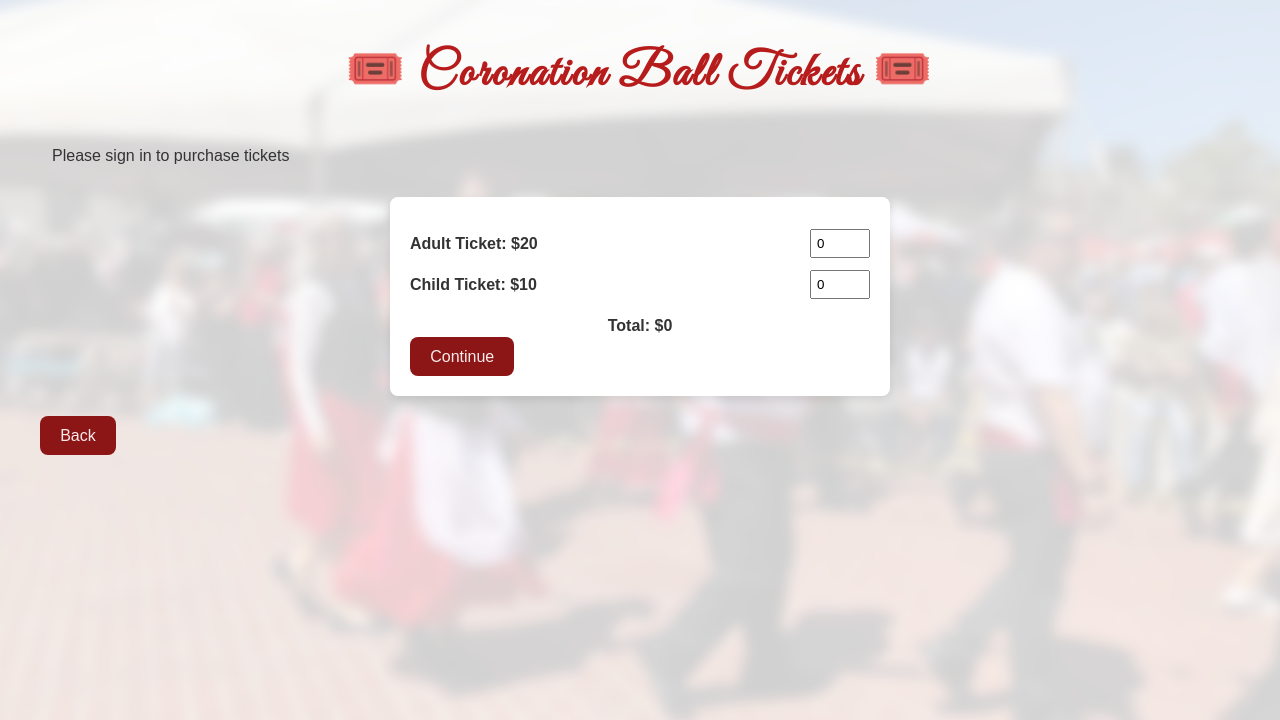
Test: CoronationBallTickets (TicketPurchase) › Continue button › advances to the names step when at least 1 ticket is selected
Expected: the button "Continue" is shown, [410,337,514,376]
Replace the text in the number field in the row of "Adult Ticket: $20" with "1" at {"x": 840, "y": 243}, box [810,229,870,258]
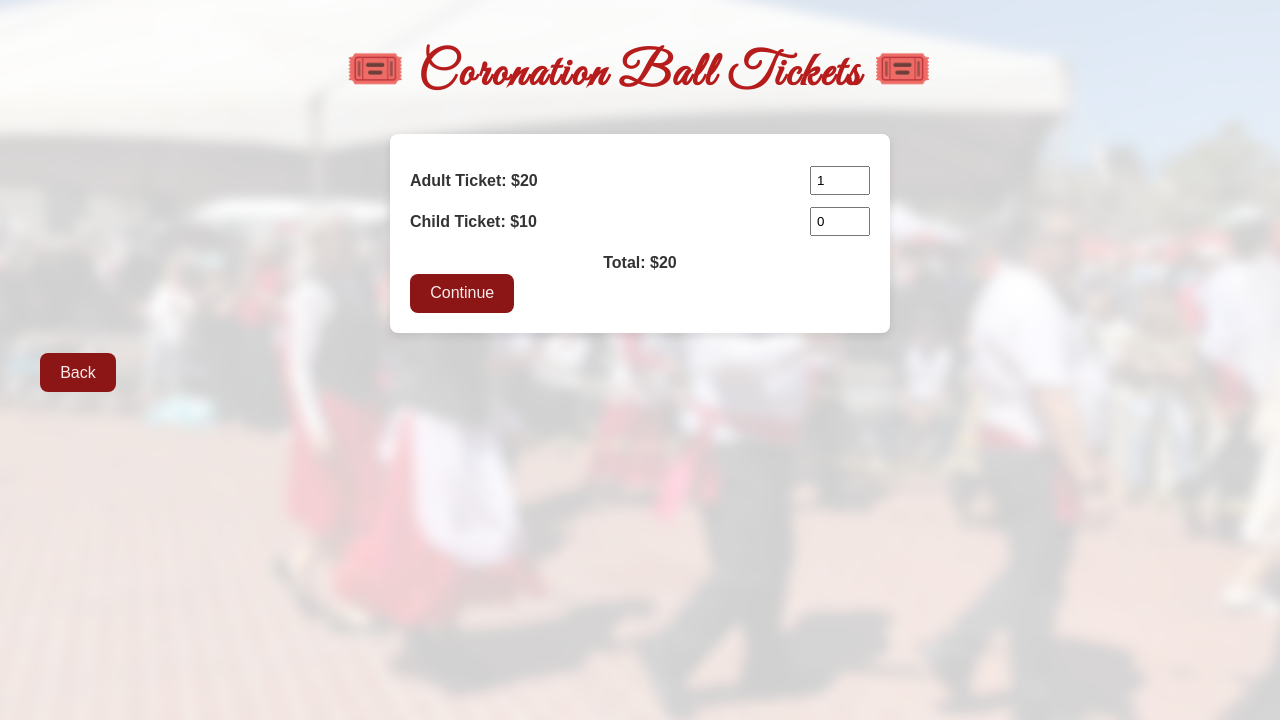
Click the button "Continue" at {"x": 462, "y": 293}, box [410,274,514,313]
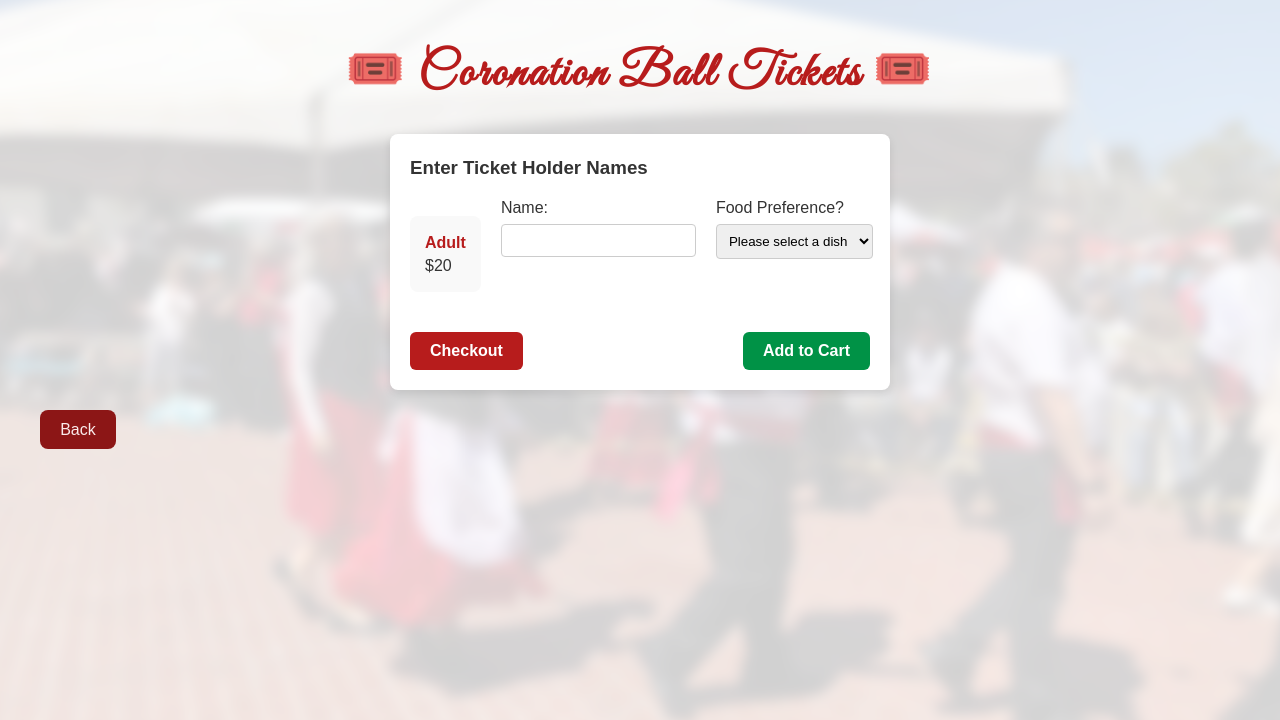
Expected: the heading "Enter Ticket Holder Names" is shown, [410,157,648,178]
